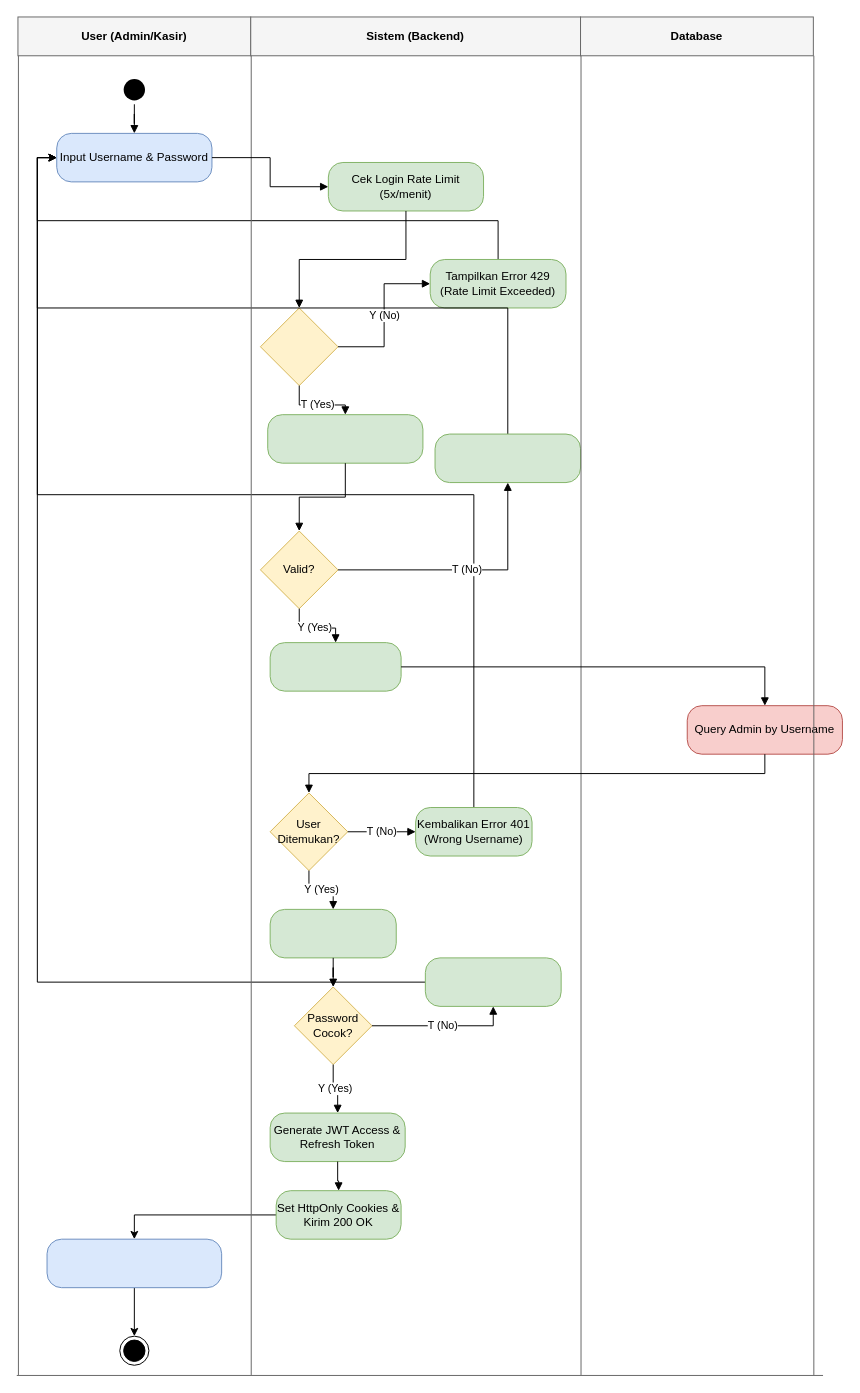
Some shapes in this 860 by 1393 pixel diagram are drawn without their labels. The centre of each missing label's shape, as x and y in pixels:
"Cari Admin berdasarkan Username" goes at point (335, 666).
"Kembalikan Error 400 (Bad Request)" goes at point (507, 458).
"Kembalikan Error 401 (Wrong Password)" goes at point (492, 981).
"Limit Terpenuhi?" goes at point (298, 346).
"Redirect ke Dashboard sesuai Role" goes at point (134, 1263).
"Validasi Keberadaan Input (Zod)" goes at point (345, 438).
"Verifikasi Hash Password" goes at point (332, 933).
